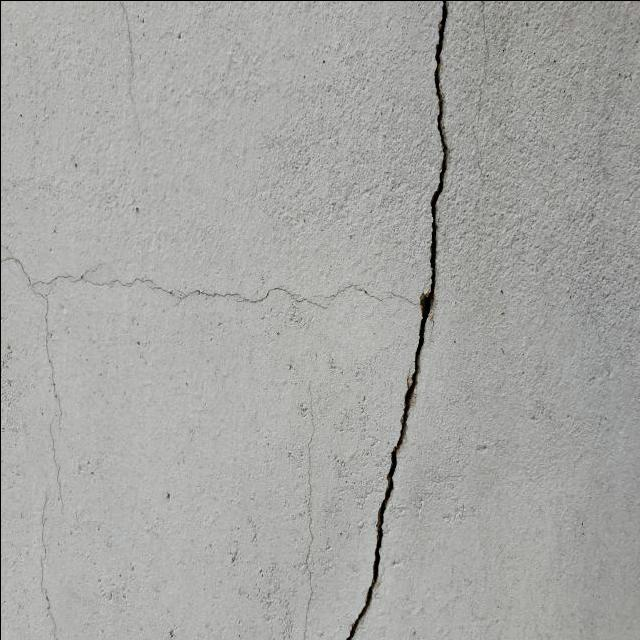SurfaceCrack: (308, 0, 484, 640), (0, 203, 630, 344), (6, 271, 102, 640)
